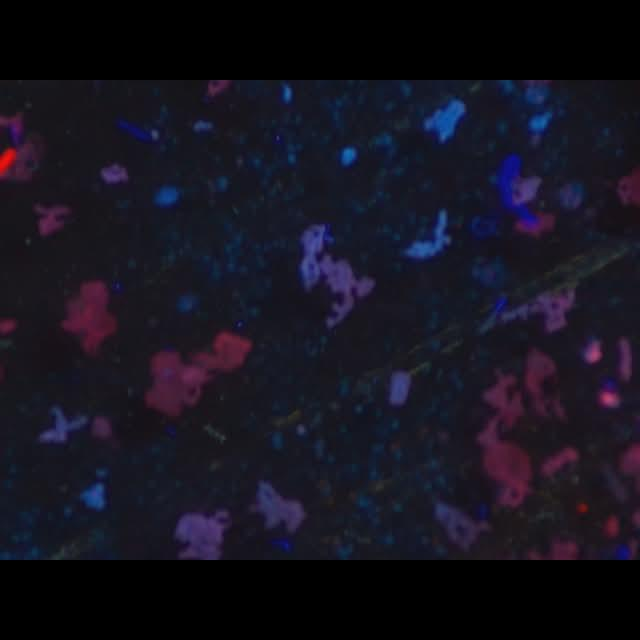Fragment: (144, 332, 253, 416), (61, 280, 117, 352)
